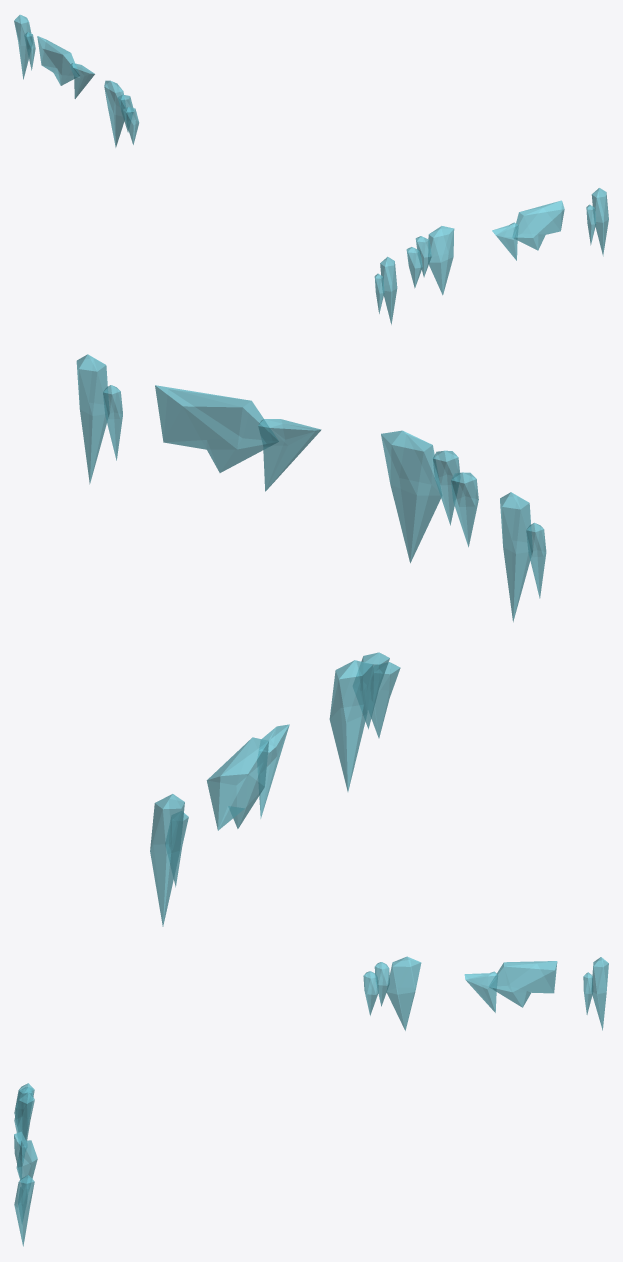
File: Stalactit.fbx
3 views of the same model, one above another, from view 1: azimuth 30°, elevation 25°; view 2: azimuth 150°, elevation 25°; view 3: azimuth 270°, elevation 25° (orthographic). The views are drawn at different scales.
Visible parts, largest first — view 1: Icosphere.016; view 2: Icosphere.016; view 3: Icosphere.016.
Boxes of the visible parts, x1,y1,x2,y2 form: Icosphere.016: (14,14,608,324); Icosphere.016: (76,354,546,926); Icosphere.016: (14,956,608,1246).
Size of the model in its own units: 2324 by 941 by 3455.
